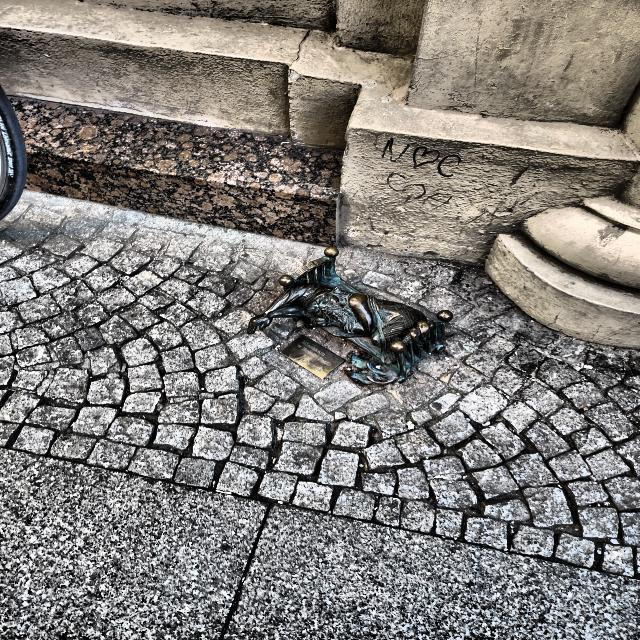Chrapek: (248, 248, 452, 384)
